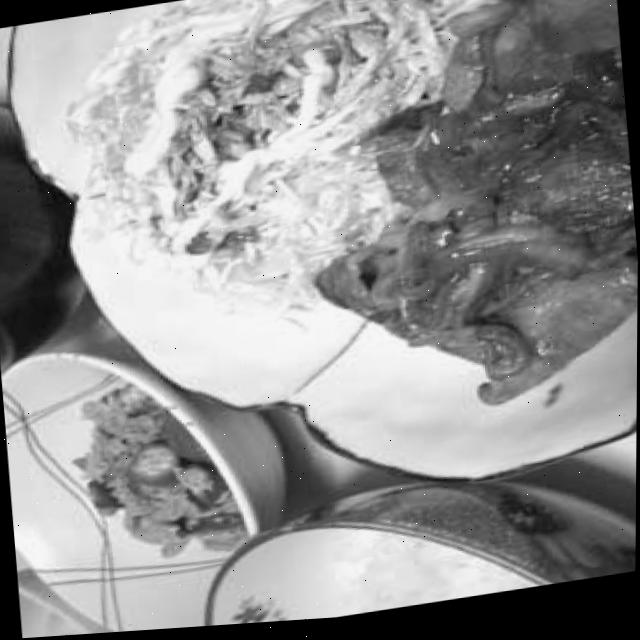猪肉菜式: (243, 0, 640, 414)
